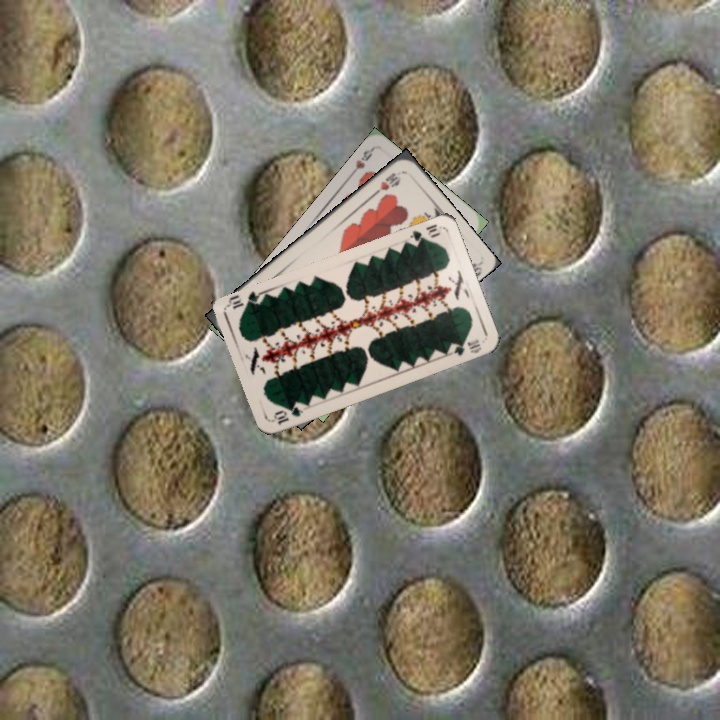G10: (405, 220, 443, 248), (269, 402, 306, 428)
H10: (370, 168, 403, 198)
H9: (345, 145, 376, 179)
